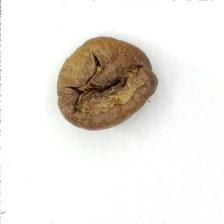NG: (65, 48, 148, 119)
